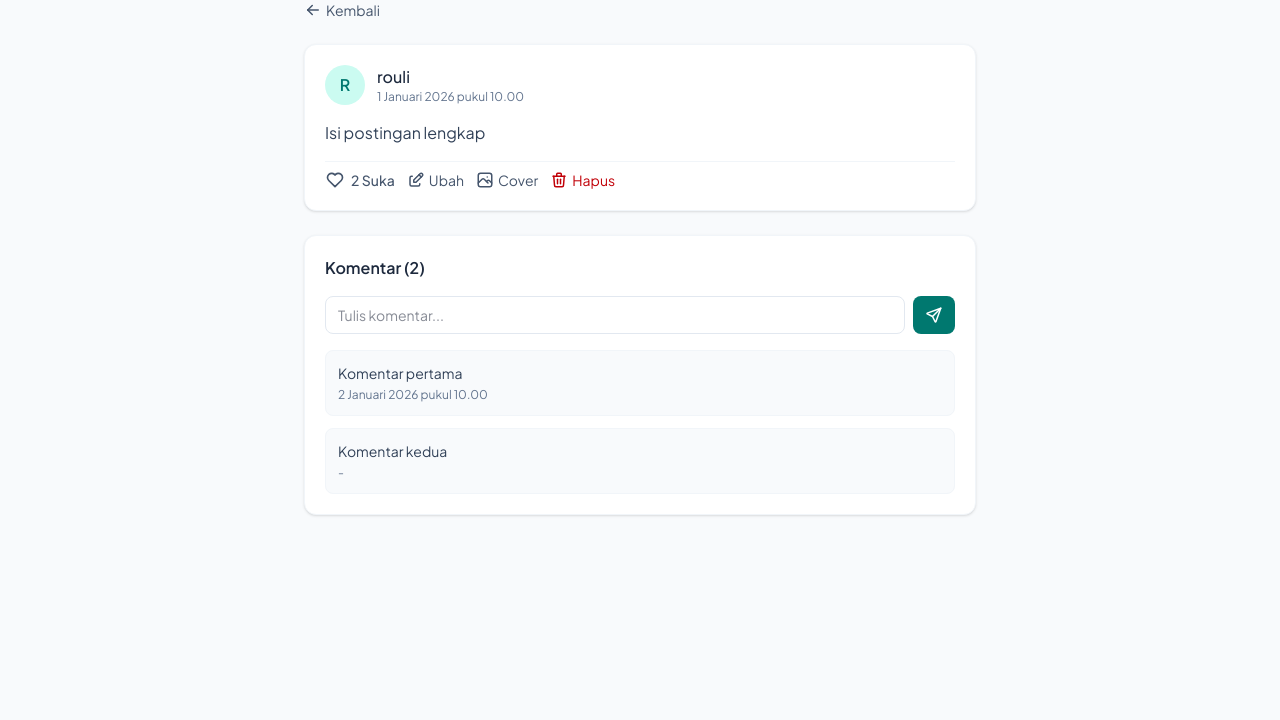
Scenario: DetailPage › modal ubah deskripsi & cover › tombol Ubah membuka modal berisi deskripsi saat ini; simpan memuat ulang detail
Expected: the text "Isi postingan lengkap" is shown, [325, 122, 486, 143]
Click the button "Ubah" at x=435, y=180, box [407, 170, 464, 190]
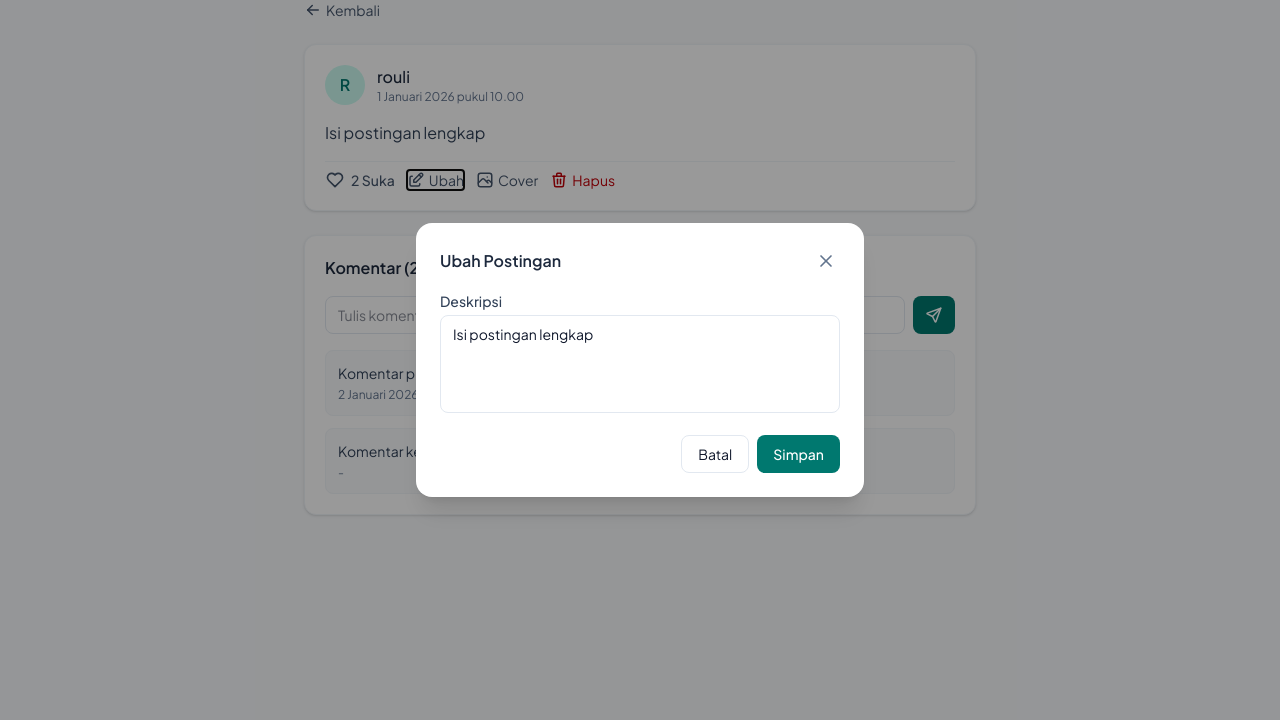
Expected: the heading "Ubah Postingan" is shown, [440, 249, 561, 273]
Replace the text in the text box showing "Isi postingan lengkap" with "Deskripsi baru" at x=640, y=364, box [440, 315, 840, 413]
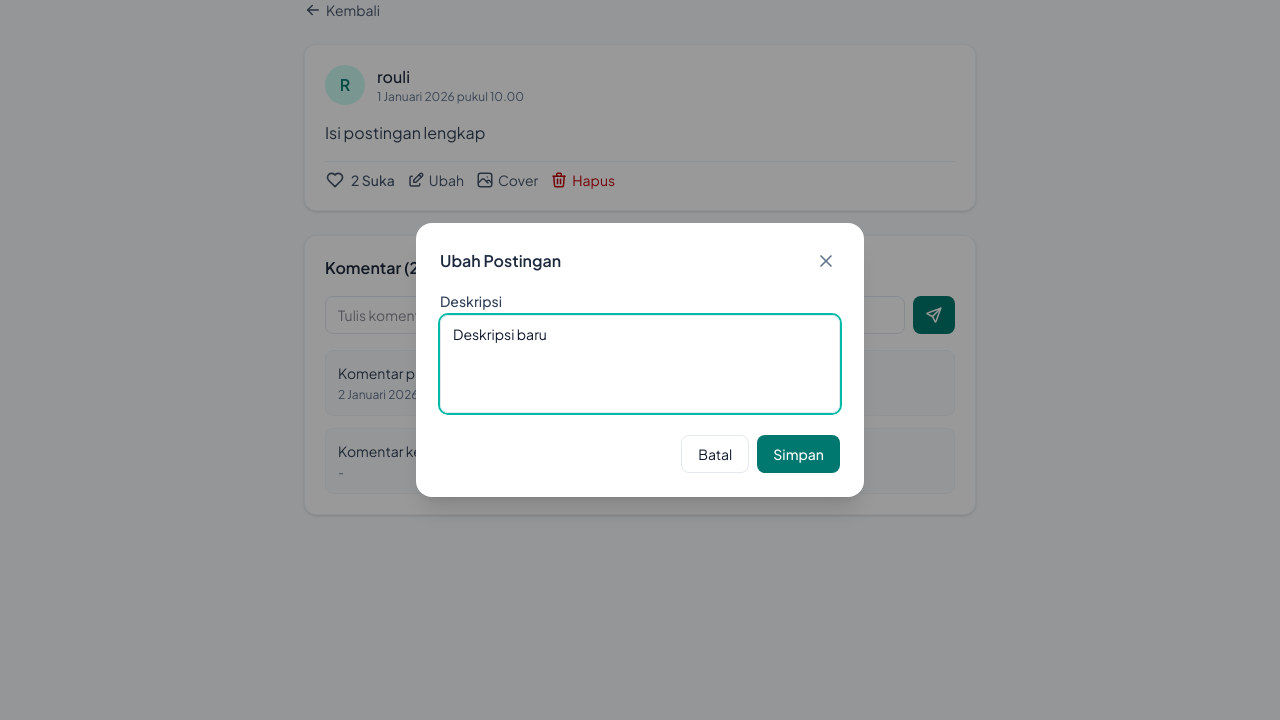
Click the button "Simpan" at x=799, y=454, box [757, 435, 840, 473]
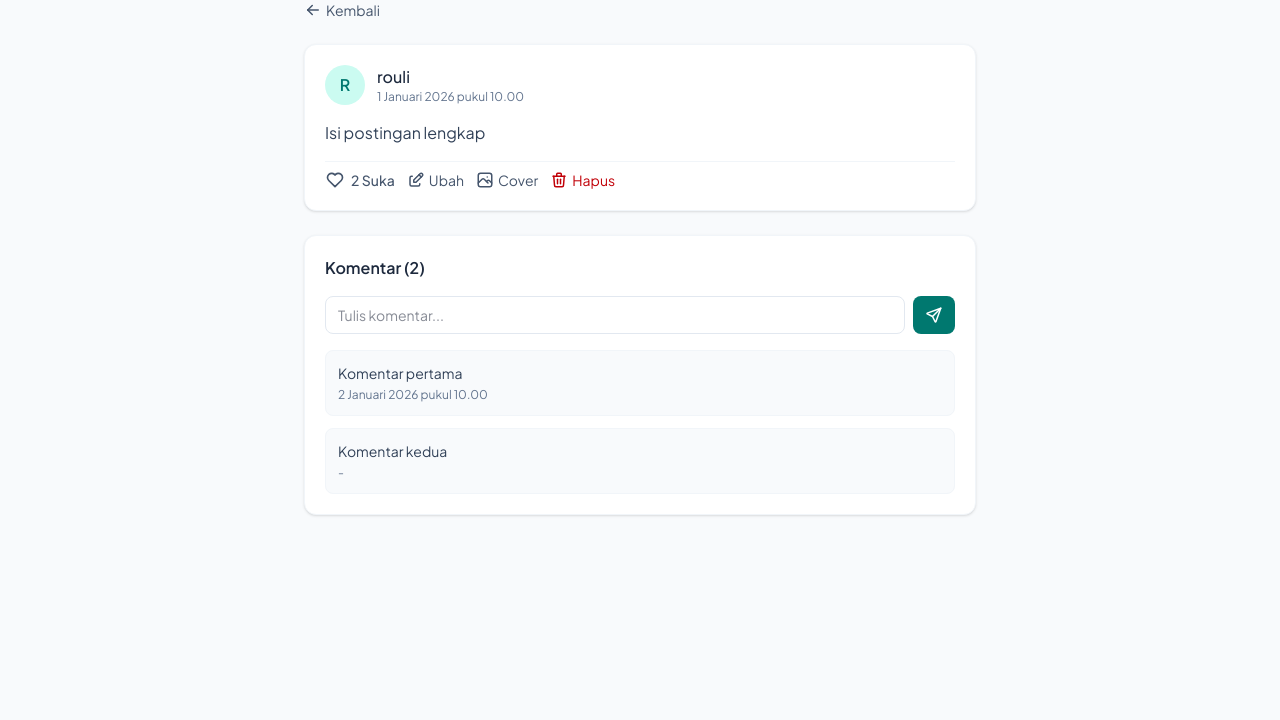
Expected: the heading "Ubah Postingan" is gone
